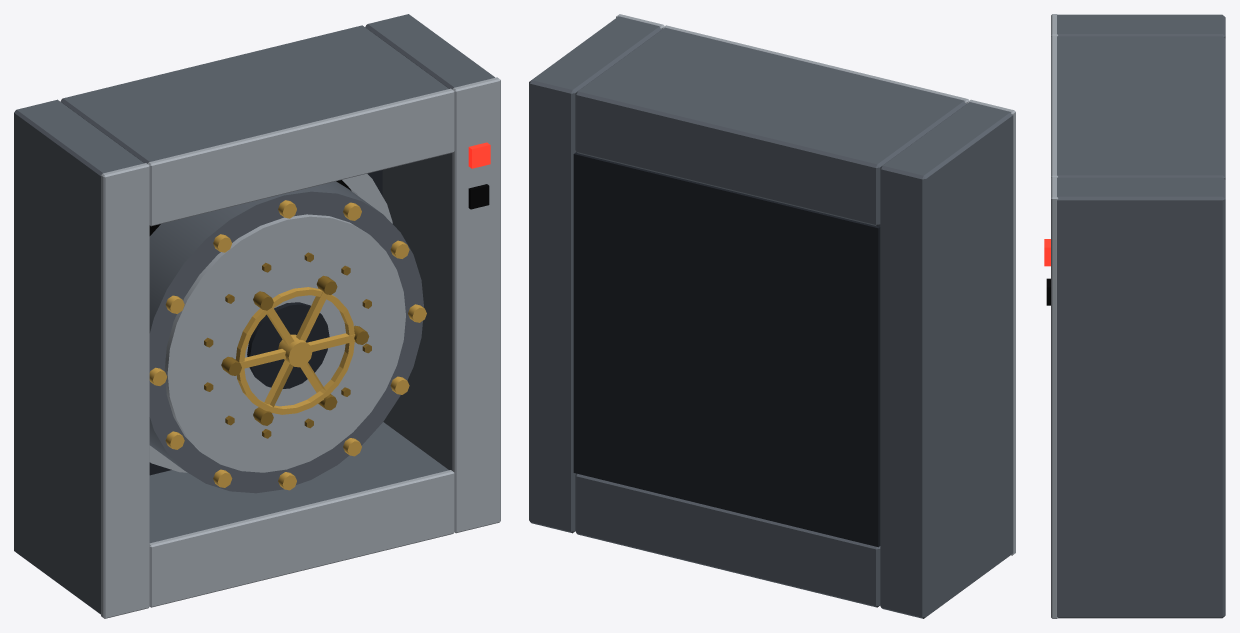
File: vault_door.glb
3 views of the same model, side by side, from view 1: azimuth 30°, elevation 25°; view 2: azimuth 150°, elevation 25°; view 3: azimuth 270°, elevation 25° (orthographic). The views are drawn at different scales.
Visible parts, largest first — view 1: vault_door, slab, wheel; view 2: vault_door; view 3: vault_door.
Part boxes in pixels (x1,y1,x2,y2): vault_door: (14, 14, 500, 618); slab: (149, 181, 426, 493); wheel: (221, 275, 369, 425); vault_door: (529, 14, 1015, 618); vault_door: (1044, 14, 1225, 618).
Bounding box in the file's own units: 3 × 3.2 × 1.25.
